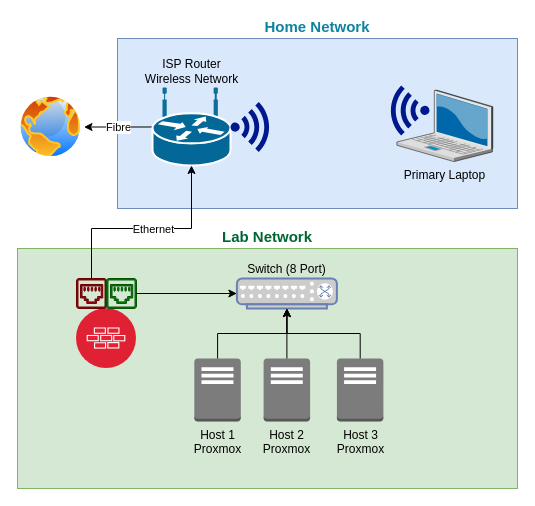
The diagram is 535 pixels wide and 506 high, and some of its shapes have lost their labels. Each missing label, with the centre of its shape:
Firewall/Router OPNsense: point 106,338
Internet: point 50,126
LAN: point 121,293
WAN: point 91,293
